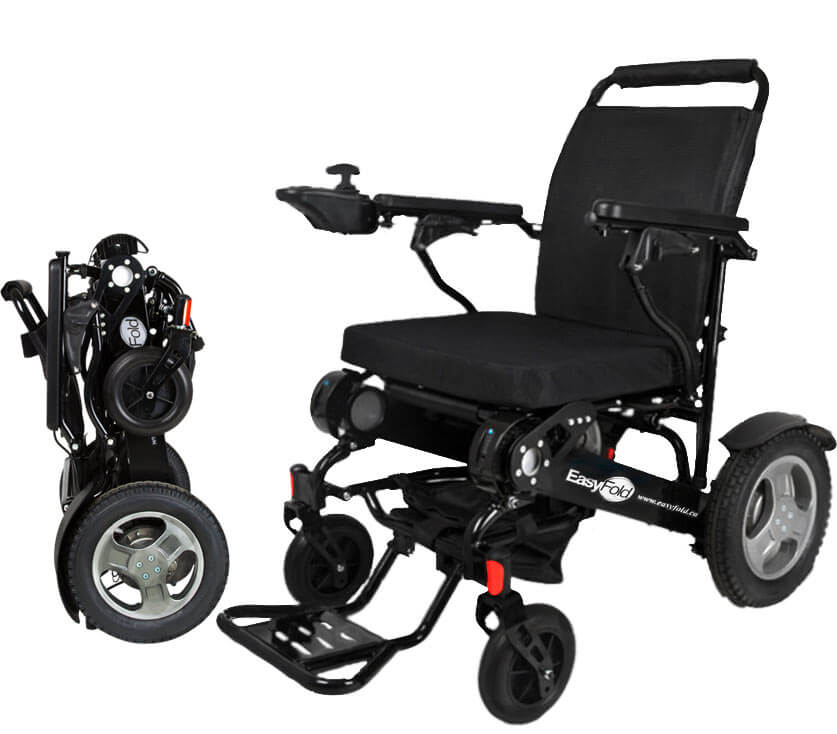wheelchair: (236, 36, 837, 713)
